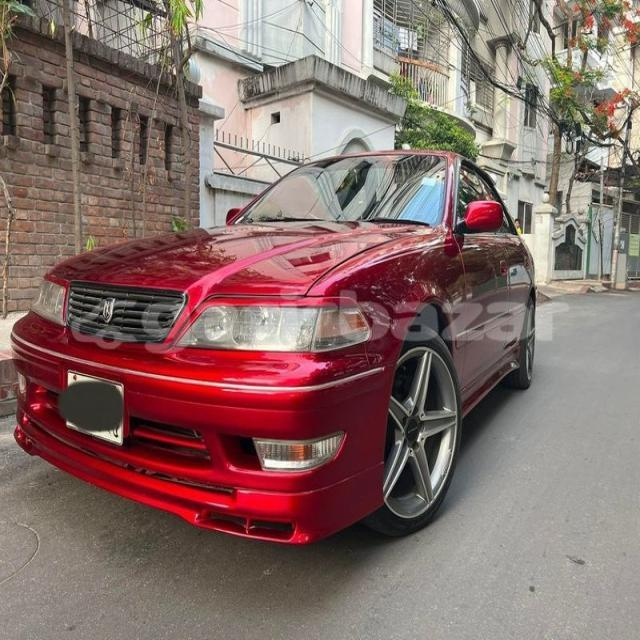red: (20, 110, 528, 561)
